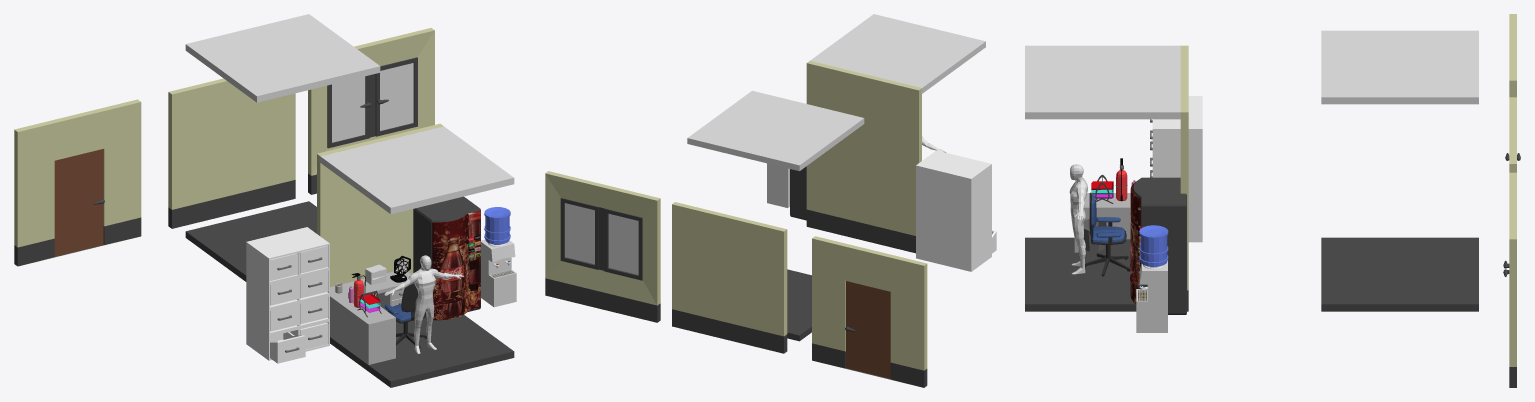
The model's file is istenthekovulma.fbx.
The picture shows the model from 3 angles, left to right: view 1: azimuth 30°, elevation 25°; view 2: azimuth 150°, elevation 25°; view 3: azimuth 270°, elevation 25°; orthographic projection. The views are drawn at different scales.
Visible parts, largest first — view 1: Wall.001, DoorWall, Cieling.001, Cieling, Wall, Vending Machine, Floor, FileCabinet, WindowWall, Door, Floor.001, Glass (+14 smaller); view 2: Wall, Wall.001, DoorWall, WindowWall, Cieling.001, FileCabinet, Cieling, Door, Glass, WindowCase, Floor.001, Debil (+1 smaller); view 3: Floor.001, Cieling.001, Cieling, Floor, Vending Machine, FileCabinet, Debil, WindowWall, Wall, OfficeChair, Plane, Damacana (+4 smaller).
Boxes of the visible parts, left/top/right/bottom form: Wall.001: left=168, top=78, right=295, bottom=228; DoorWall: left=14, top=99, right=141, bottom=266; Cieling.001: left=185, top=14, right=380, bottom=102; Cieling: left=319, top=126, right=514, bottom=214; Wall: left=317, top=123, right=443, bottom=286; Vending Machine: left=413, top=196, right=480, bottom=320; Floor: left=330, top=315, right=514, bottom=387; FileCabinet: left=246, top=227, right=329, bottom=360; WindowWall: left=308, top=28, right=434, bottom=194; Door: left=54, top=149, right=103, bottom=256; Floor.001: left=185, top=201, right=316, bottom=281; Glass: left=332, top=63, right=413, bottom=142; Wall: left=806, top=61, right=921, bottom=253; Wall.001: left=672, top=202, right=787, bottom=353; DoorWall: left=812, top=236, right=927, bottom=387; WindowWall: left=545, top=171, right=660, bottom=322; Cieling.001: left=687, top=90, right=864, bottom=171; FileCabinet: left=916, top=150, right=991, bottom=271; Cieling: left=810, top=14, right=985, bottom=93; Door: left=846, top=281, right=890, bottom=378; Glass: left=565, top=203, right=638, bottom=274; WindowCase: left=560, top=198, right=642, bottom=280; Floor.001: left=787, top=269, right=811, bottom=341; Debil: left=767, top=163, right=789, bottom=207; Floor.001: left=1321, top=237, right=1478, bottom=311; Cieling.001: left=1321, top=30, right=1478, bottom=104; Cieling: left=1025, top=45, right=1180, bottom=119; Floor: left=1025, top=237, right=1136, bottom=311; Vending Machine: left=1130, top=177, right=1186, bottom=314; FileCabinet: left=1152, top=96, right=1202, bottom=242; Debil: left=1136, top=260, right=1167, bottom=332; WindowWall: left=1509, top=172, right=1516, bottom=387; Wall: left=1180, top=45, right=1188, bottom=311; OfficeChair: left=1085, top=192, right=1130, bottom=276; Plane: left=1069, top=164, right=1087, bottom=274; Damacana: left=1139, top=225, right=1168, bottom=267.
Bounding box in the file's own units: 921 × 411 × 857.
51 materials, 2 textured.
